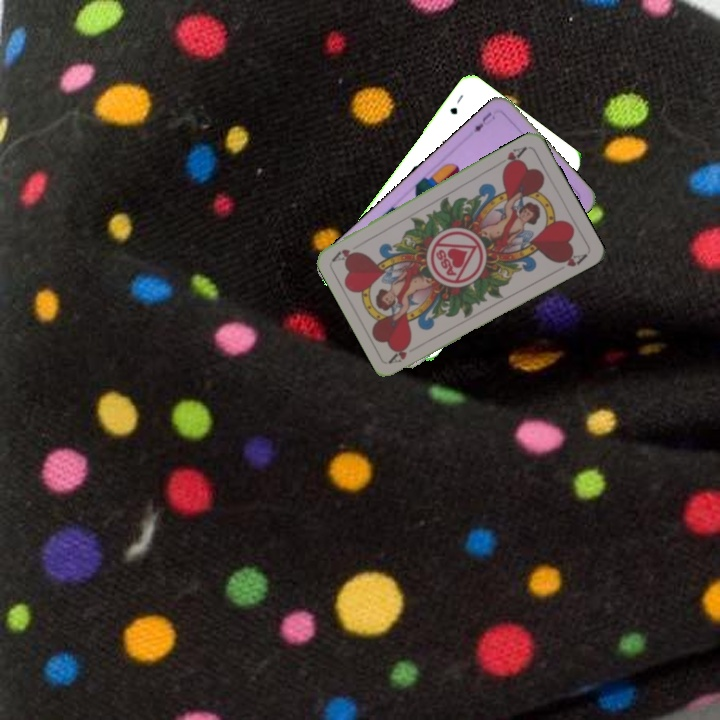EU: (469, 108, 494, 135)
GU: (446, 90, 466, 117)
HA: (498, 142, 530, 172), (386, 339, 414, 366)
